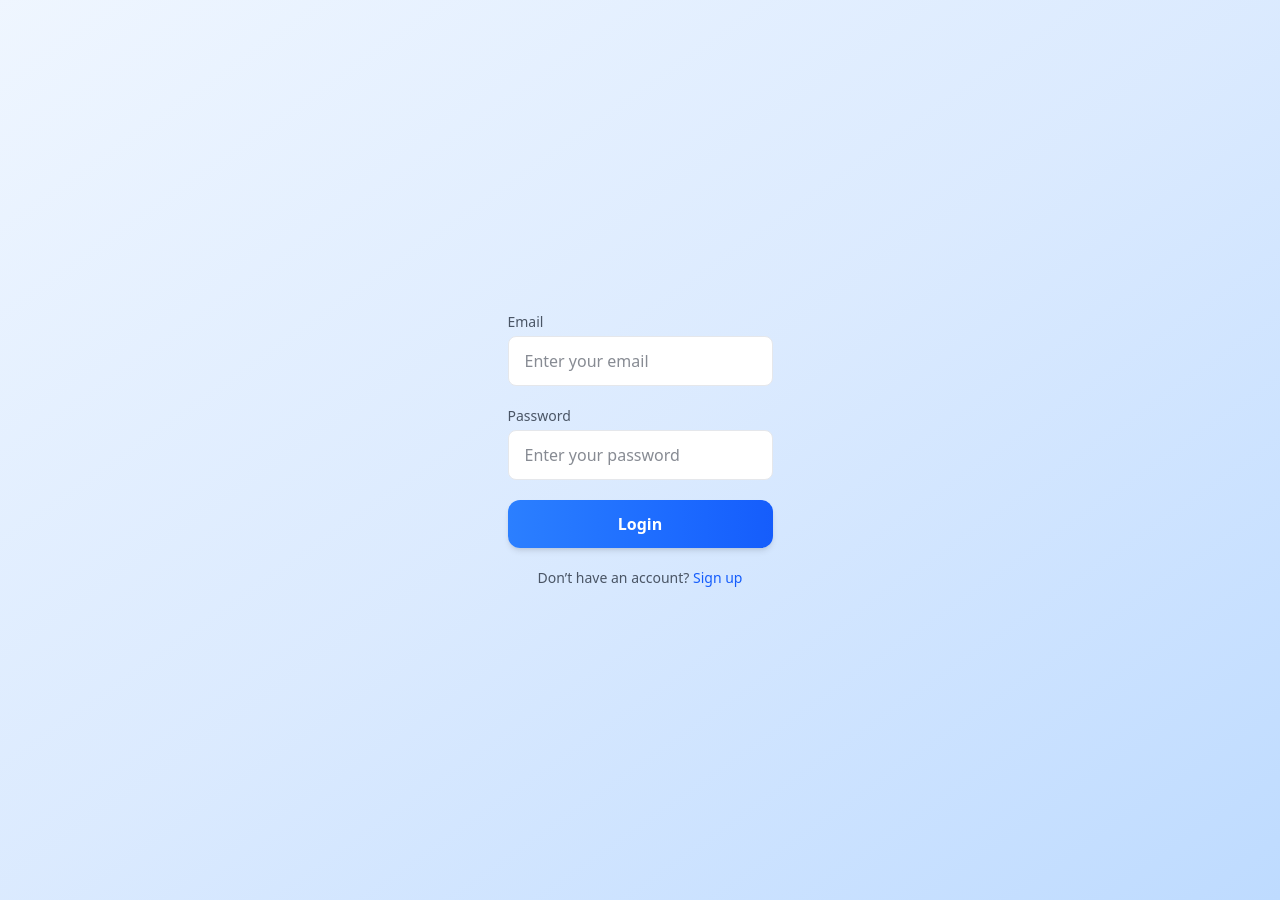
Test: auth flow › shows an error for invalid login credentials
In the field with test id "auth-login-email": coordinates (640, 361) [508,336,772,386], type "wrong@example.com"
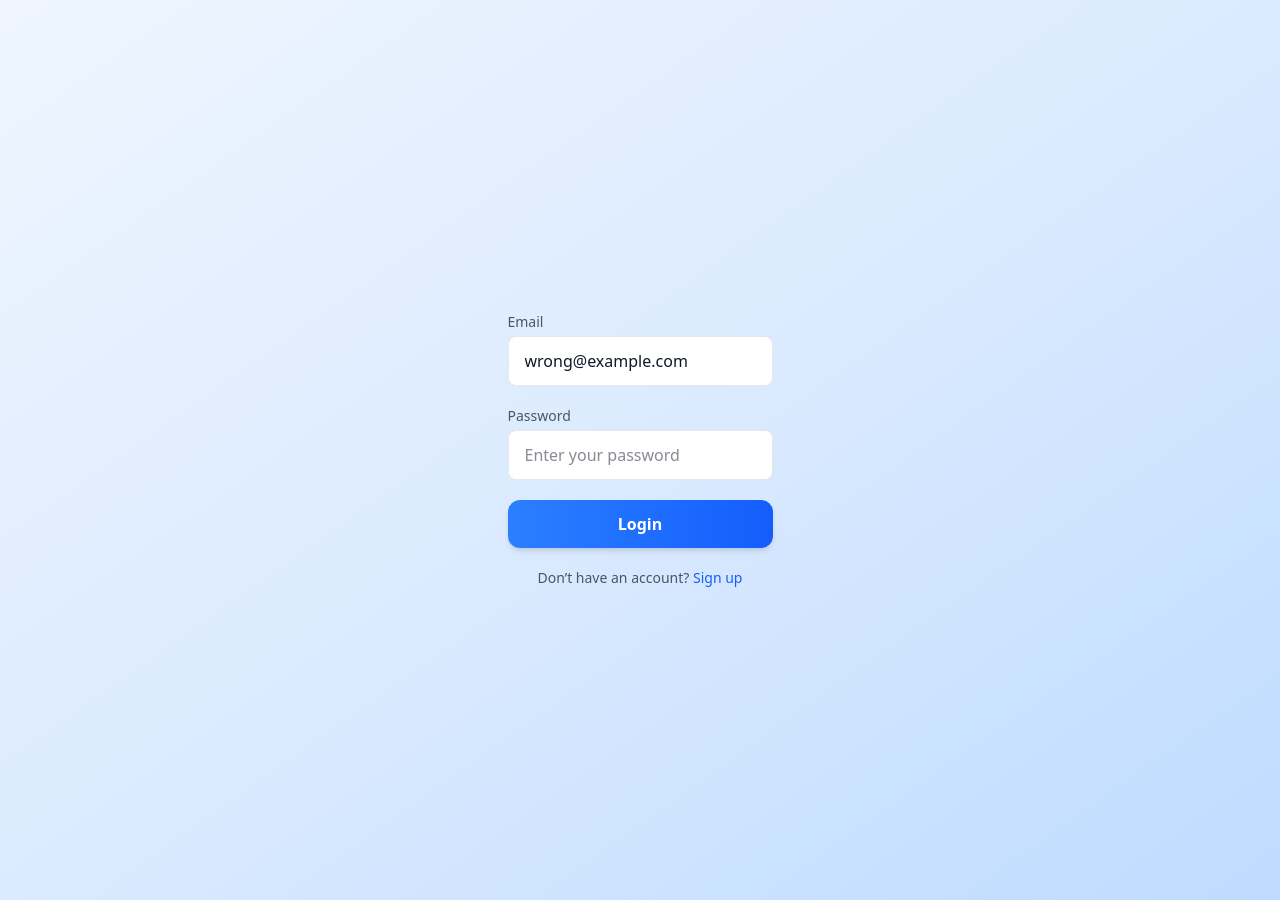
In the password field with test id "auth-login-password": coordinates (640, 455) [508,430,772,480], type "wrongpass"
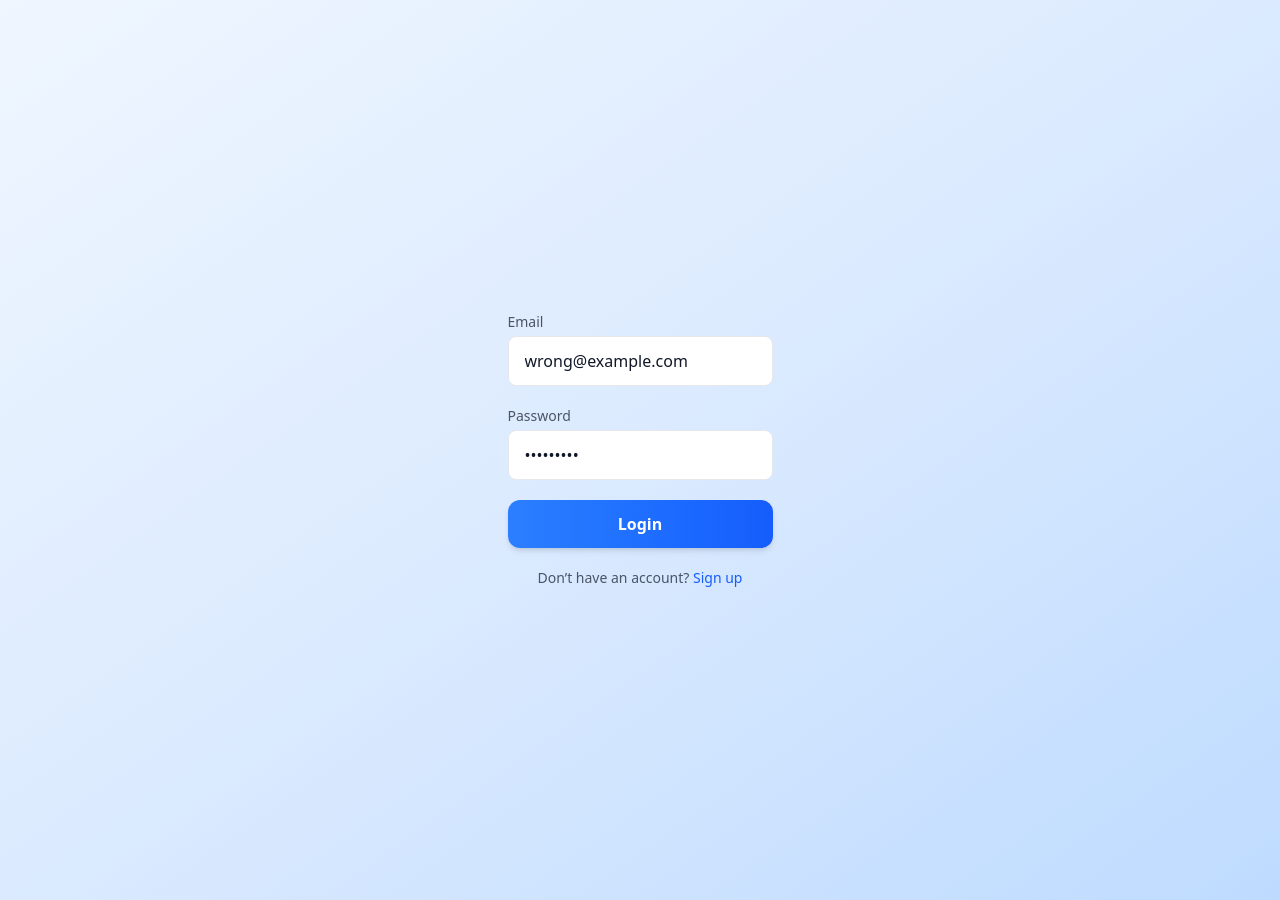
Click the button with test id "auth-login-submit": coordinates (640, 524) [508,500,772,548]
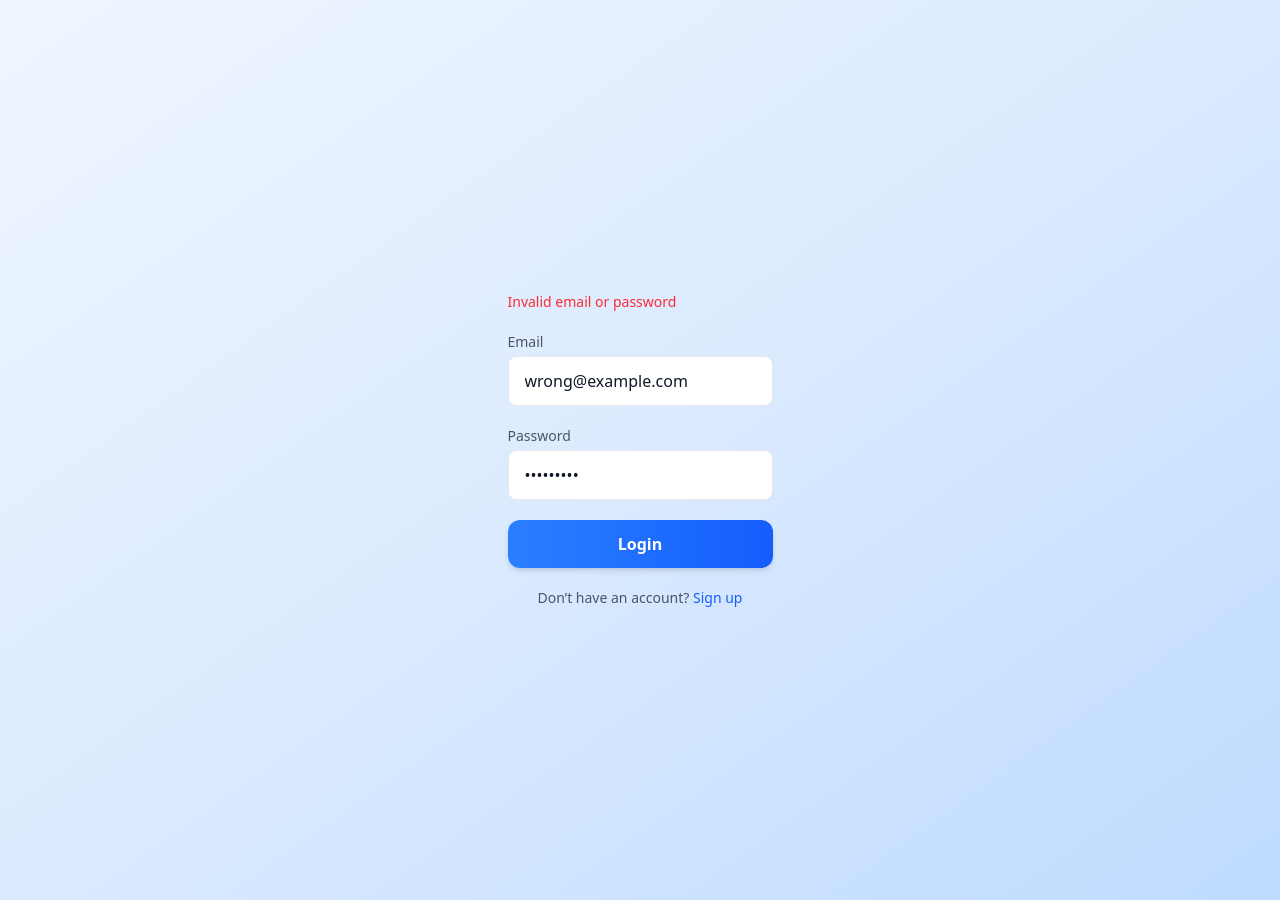
Result: the text "Invalid email or password" is shown at [508,292,676,311]
